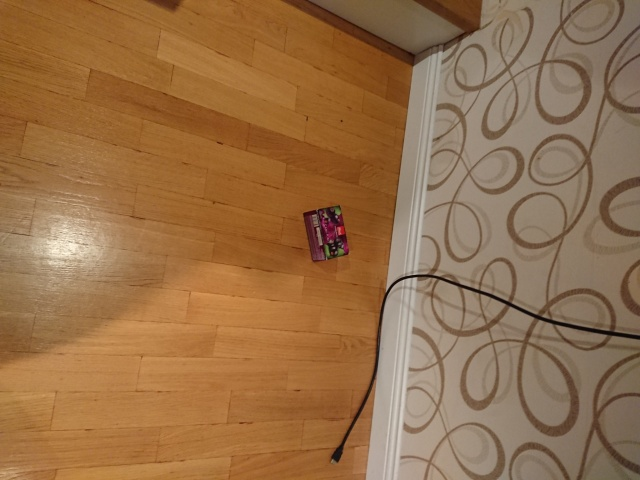Franck Black Currant Tea 60g: (302, 202, 351, 263)
